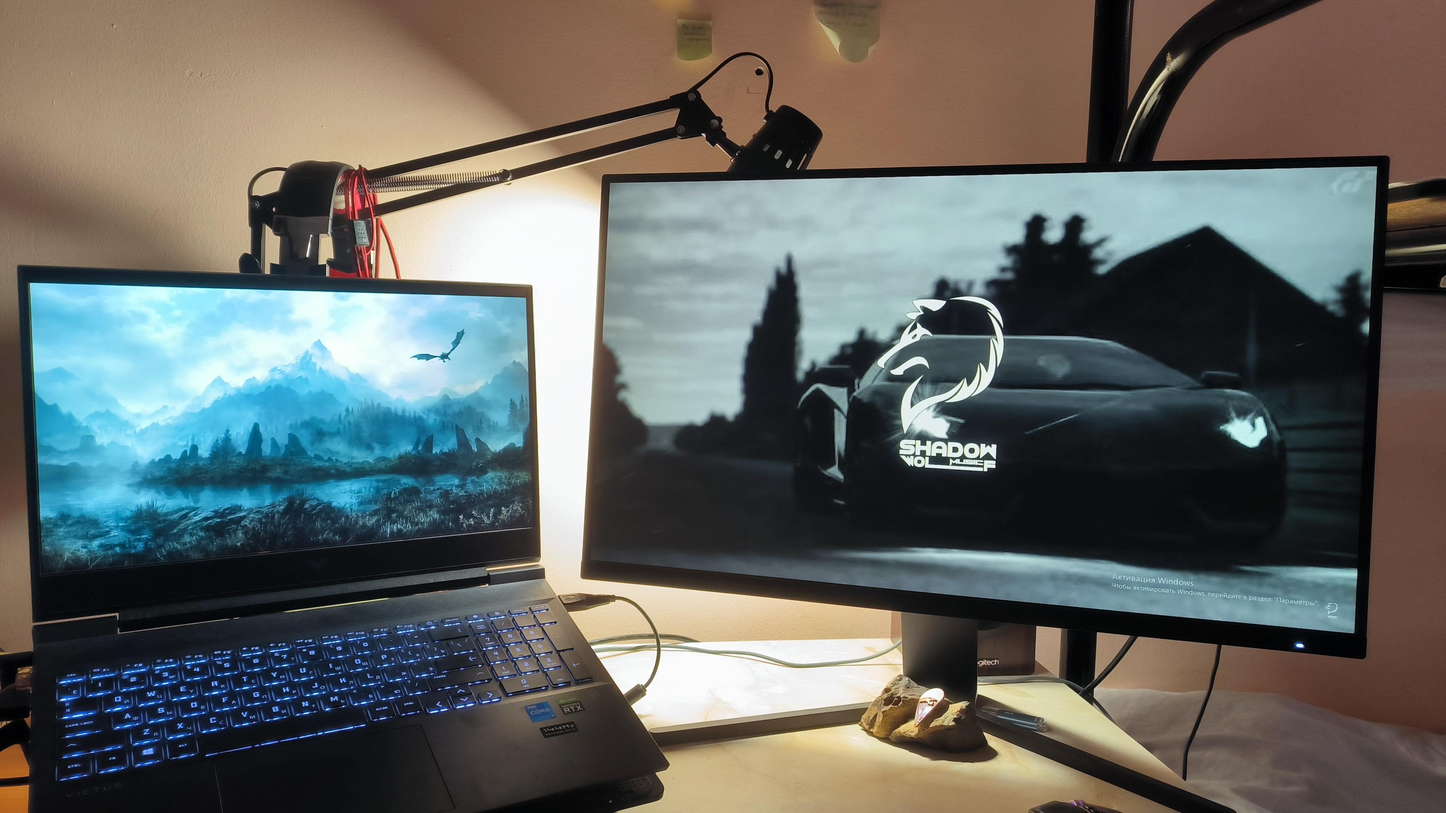monitor: (570, 146, 1392, 665), (11, 257, 548, 628)
